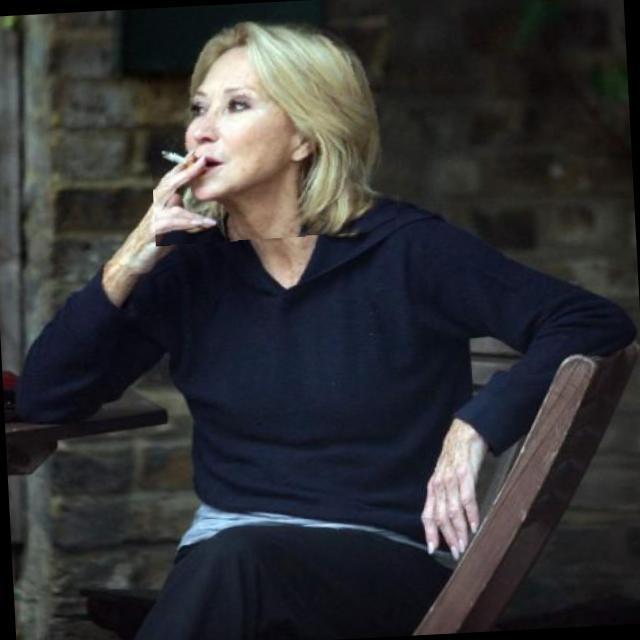cigarette: (157, 130, 230, 176)
